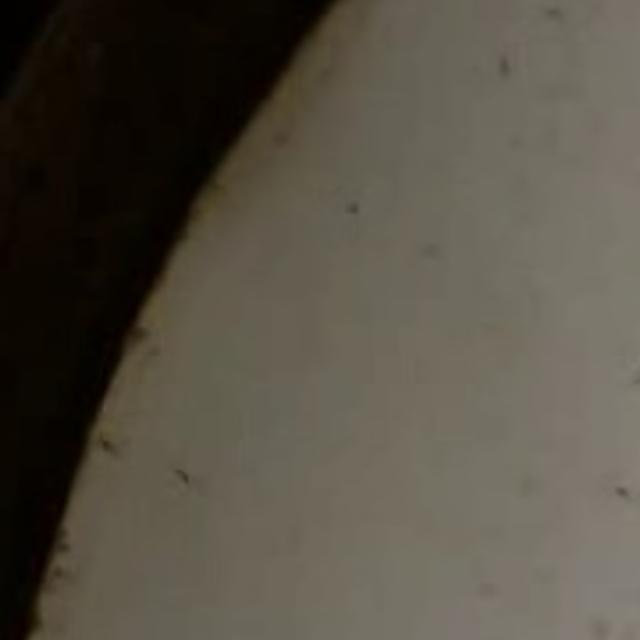shrimp-seed: (158, 450, 212, 492), (604, 468, 638, 521), (482, 40, 516, 92), (613, 360, 640, 404), (96, 426, 124, 466)
